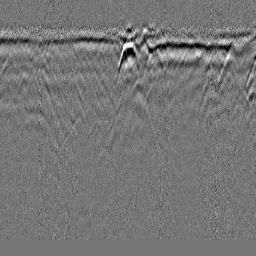cavity: (117, 40, 139, 73)
